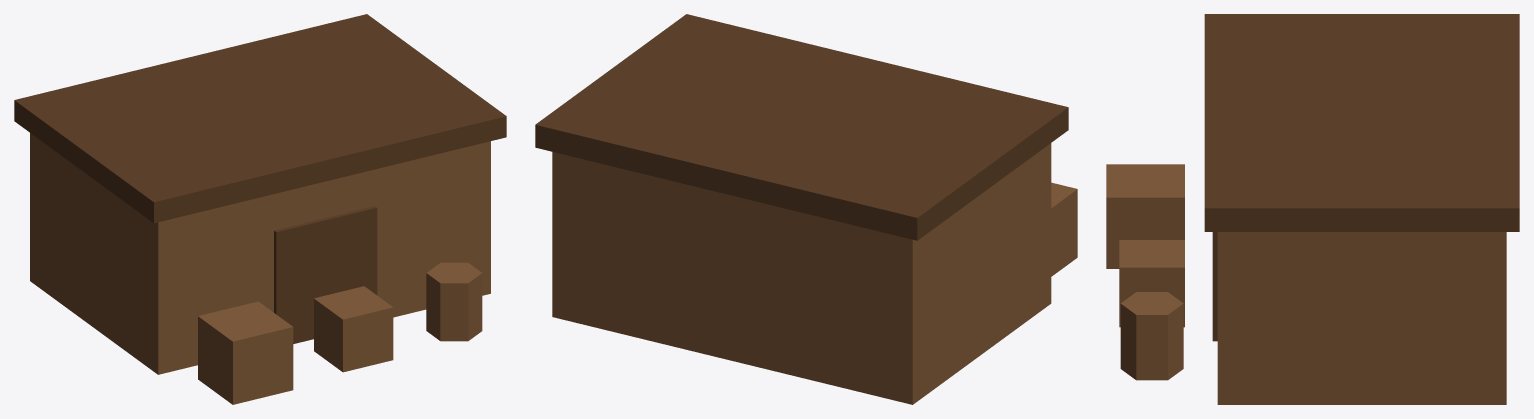
Rendered from warehouse.glb.
3 views of the same model, side by side, from view 1: azimuth 30°, elevation 25°; view 2: azimuth 150°, elevation 25°; view 3: azimuth 270°, elevation 25° (orthographic). The views are drawn at different scales.
Visible parts, largest first — view 1: warehouse; view 2: warehouse; view 3: warehouse.
Part boxes in pixels (<box>): warehouse: <box>14,14,506,404</box>; warehouse: <box>535,14,1077,404</box>; warehouse: <box>1106,14,1519,404</box>.
Bounding box in the file's own units: 0.35 × 0.17 × 0.315.
